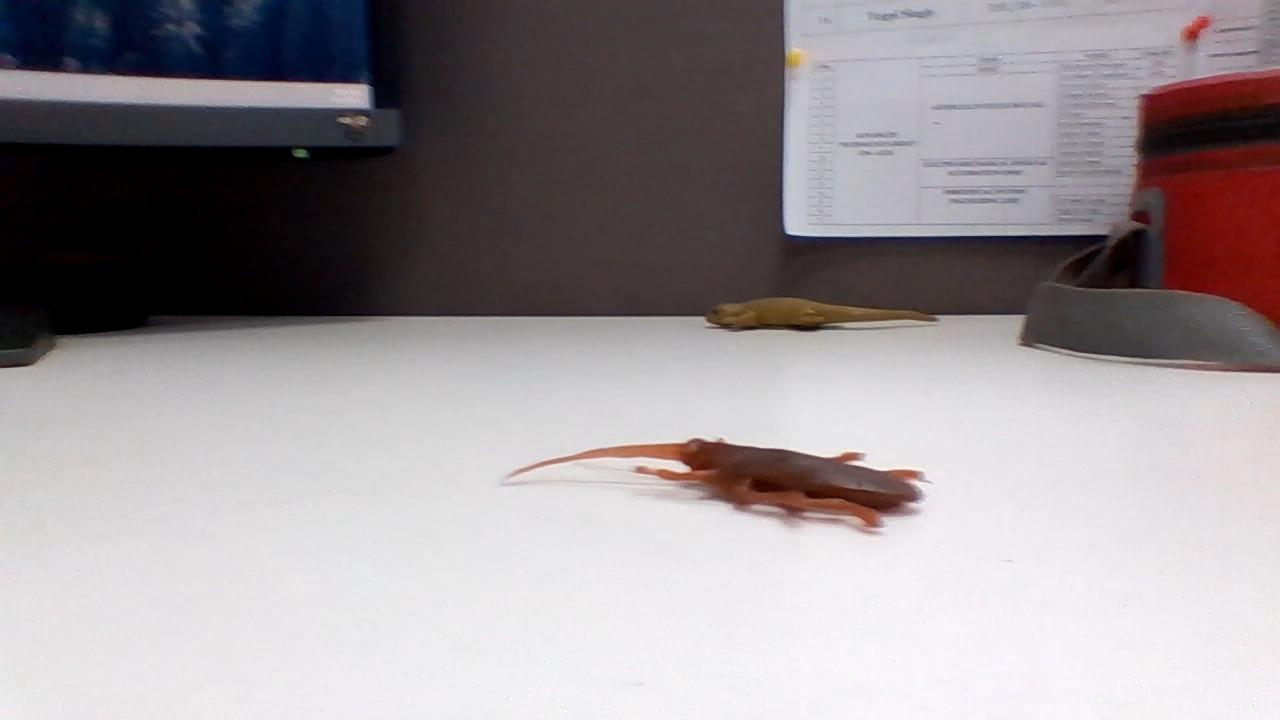cockroach: (515, 425, 929, 528)
lizard: (690, 285, 938, 337)
